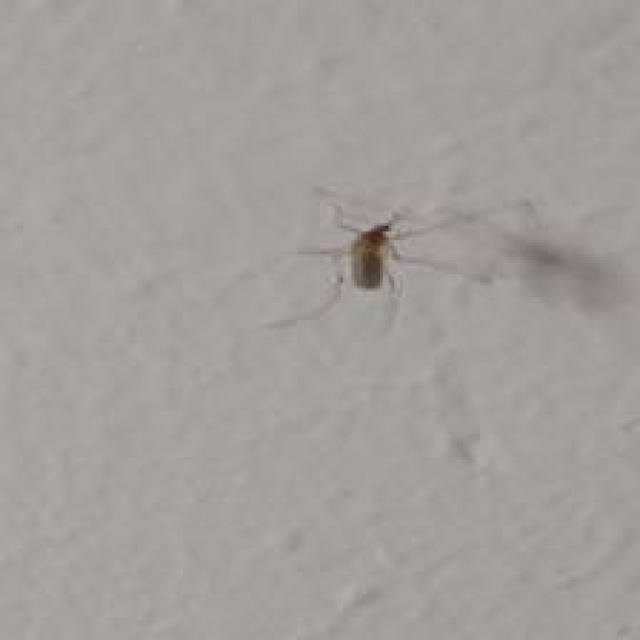Culex: (266, 198, 494, 333)
